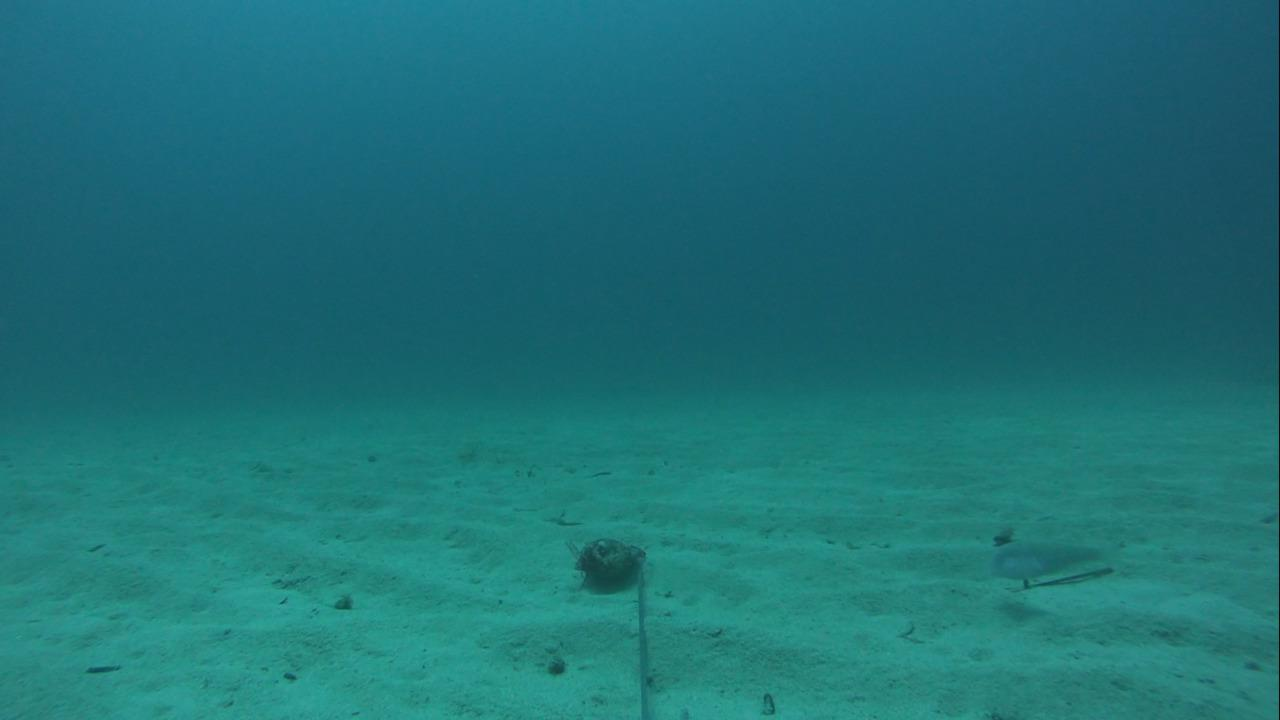raor: (986, 536, 1123, 584)
